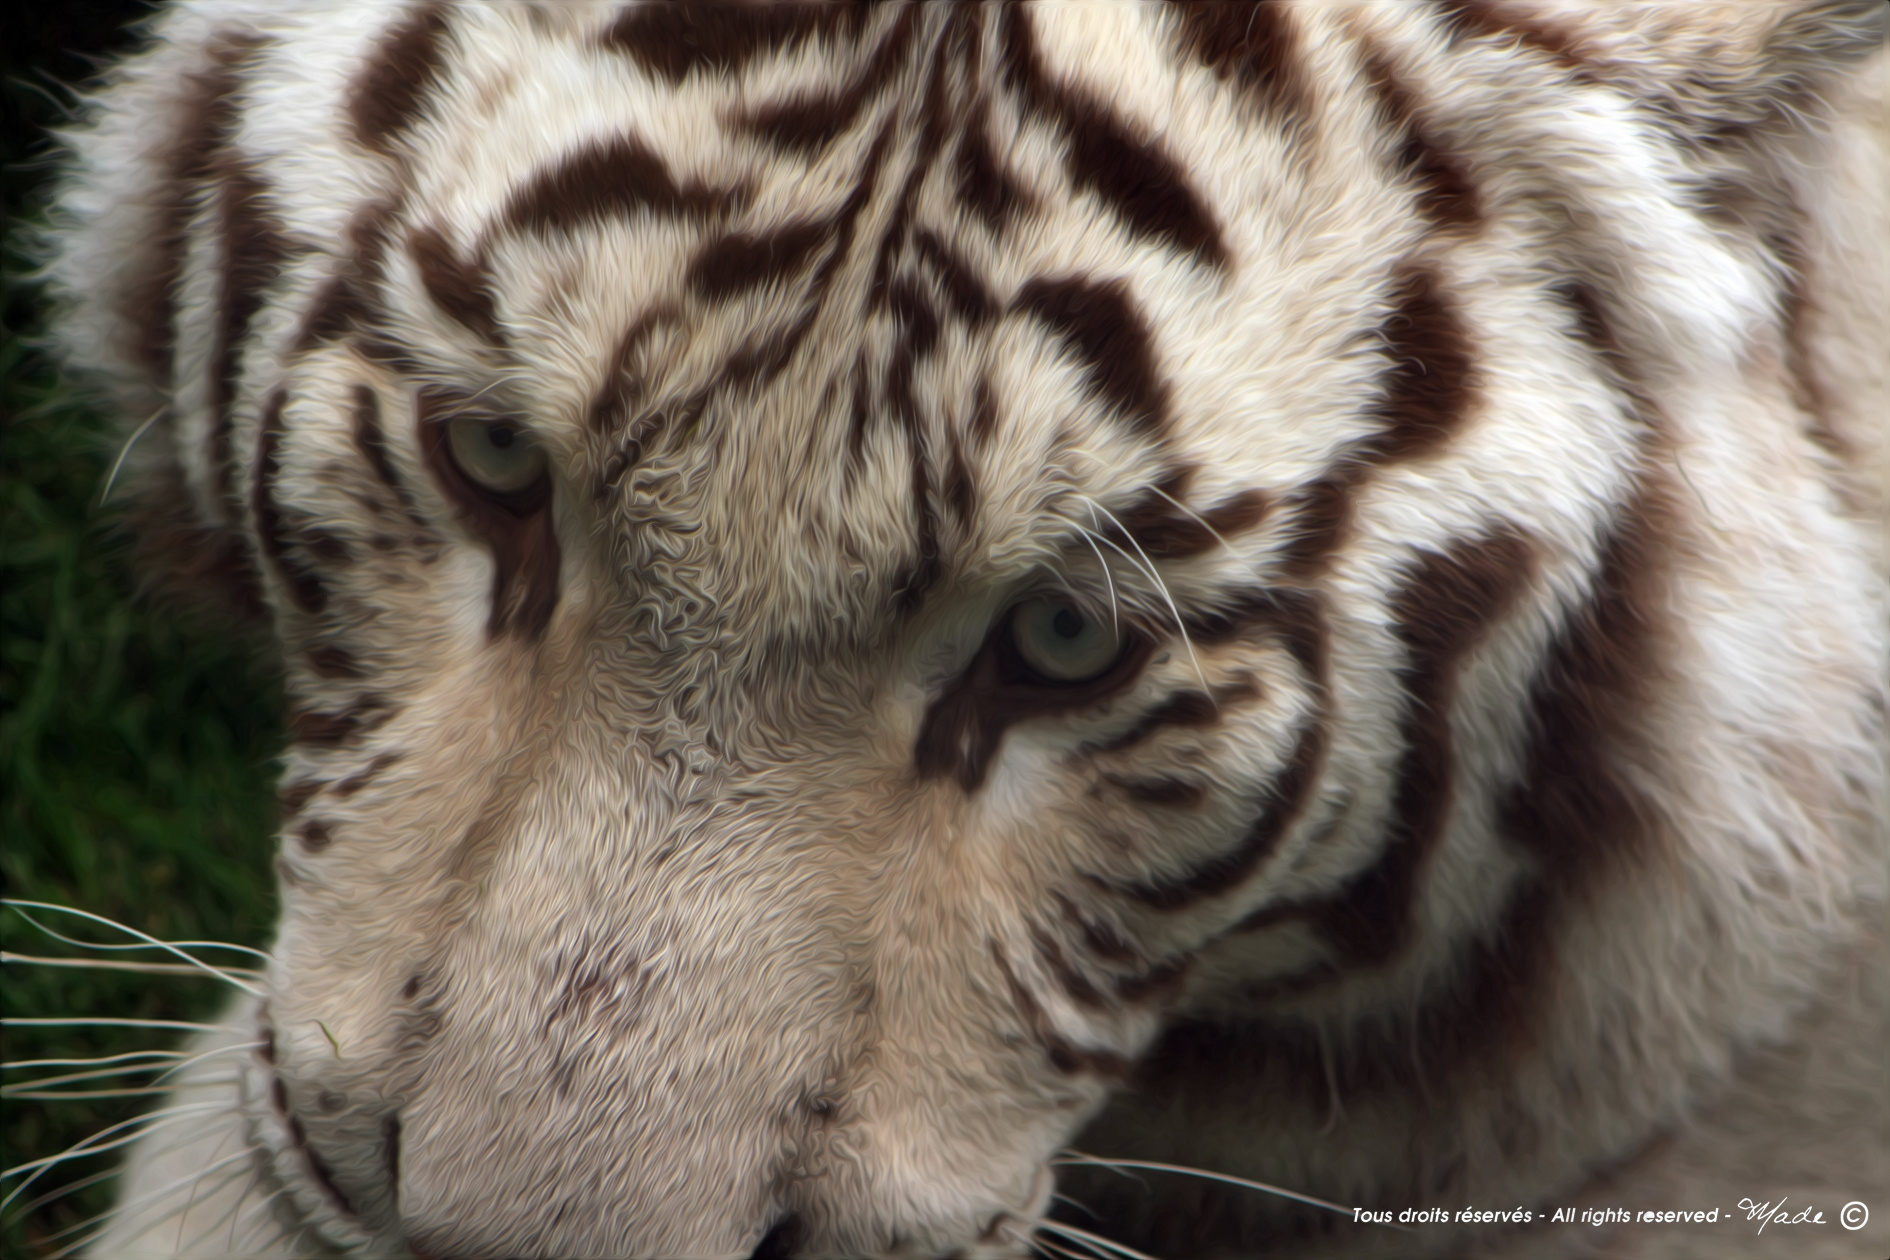tiger: (72, 37, 1461, 1185)
